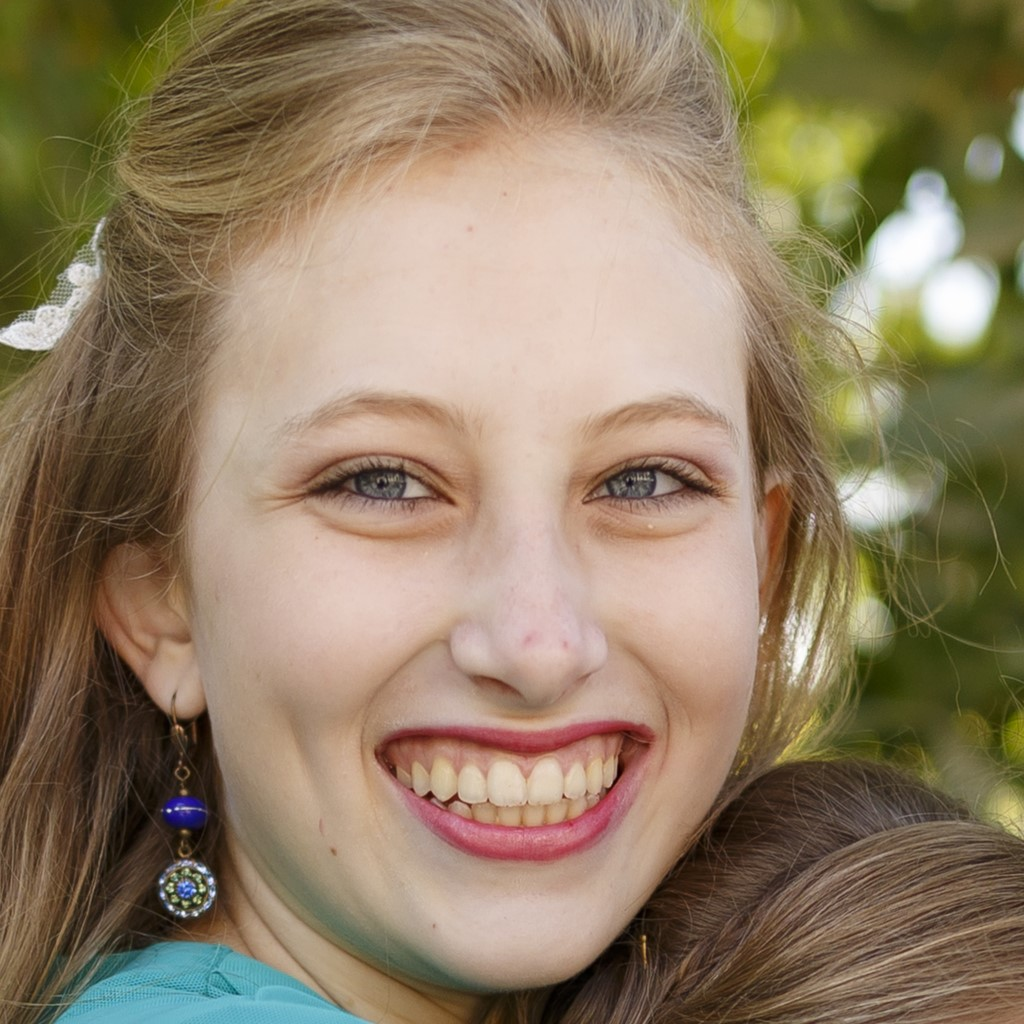sin_mascara: (134, 91, 813, 977)
